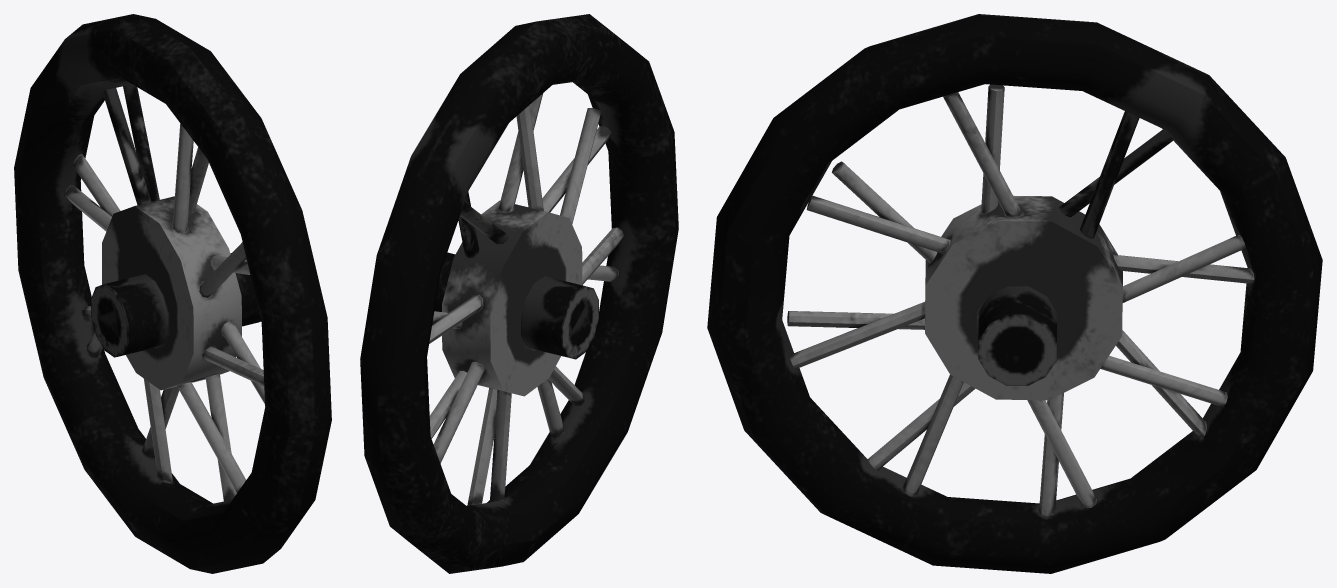
Rendered from wheelF.glb.
3 renders of one model, left to right at view 1: azimuth 30°, elevation 25°; view 2: azimuth 150°, elevation 25°; view 3: azimuth 270°, elevation 25°, orthographic. The views are drawn at different scales.
Visible parts, largest first — view 1: shift; view 2: shift; view 3: shift.
Part boxes in pixels (<box>): shift: <box>14,14,331,573</box>; shift: <box>360,14,678,573</box>; shift: <box>707,14,1322,573</box>.
Size of the model in its own units: 12.28 by 42.23 by 42.23.
1 material, 1 textured.
